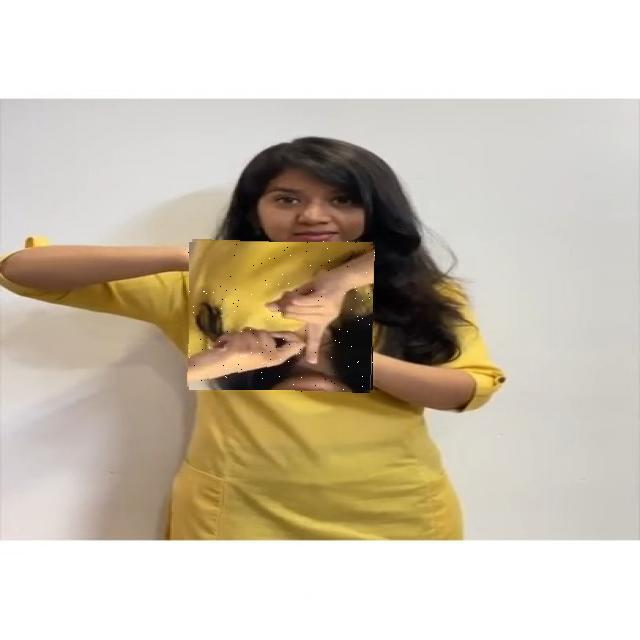K: (188, 241, 375, 392)
